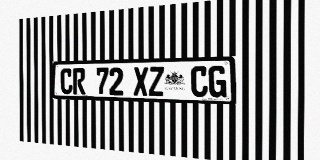2: (109, 67, 123, 95)
7: (95, 67, 109, 95)
C: (191, 66, 208, 97), (60, 68, 72, 94)
G: (208, 65, 226, 97)
R: (73, 68, 85, 94)
X: (133, 67, 148, 96)
Z: (149, 67, 164, 96)
